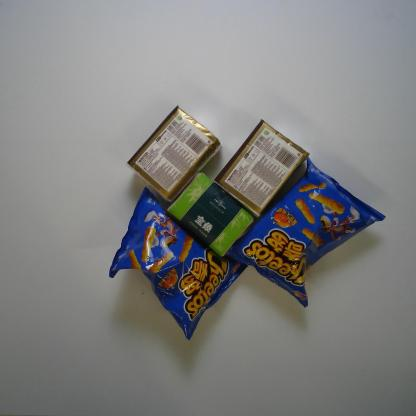Puffed Food: (225, 155, 387, 310), (108, 184, 251, 343)
Tissue: (125, 102, 222, 204), (214, 116, 310, 218), (163, 172, 255, 258)
